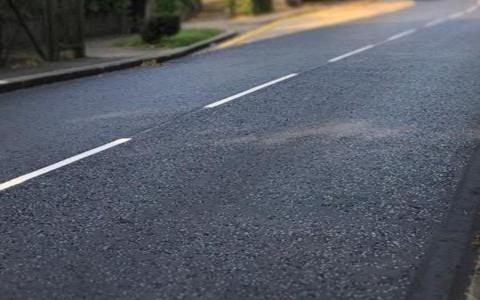Proper road: (43, 70, 457, 284)
